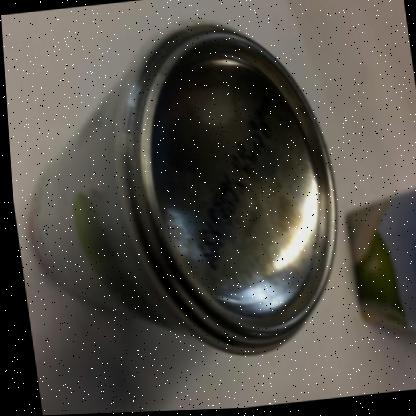Metal: (25, 24, 332, 356)
